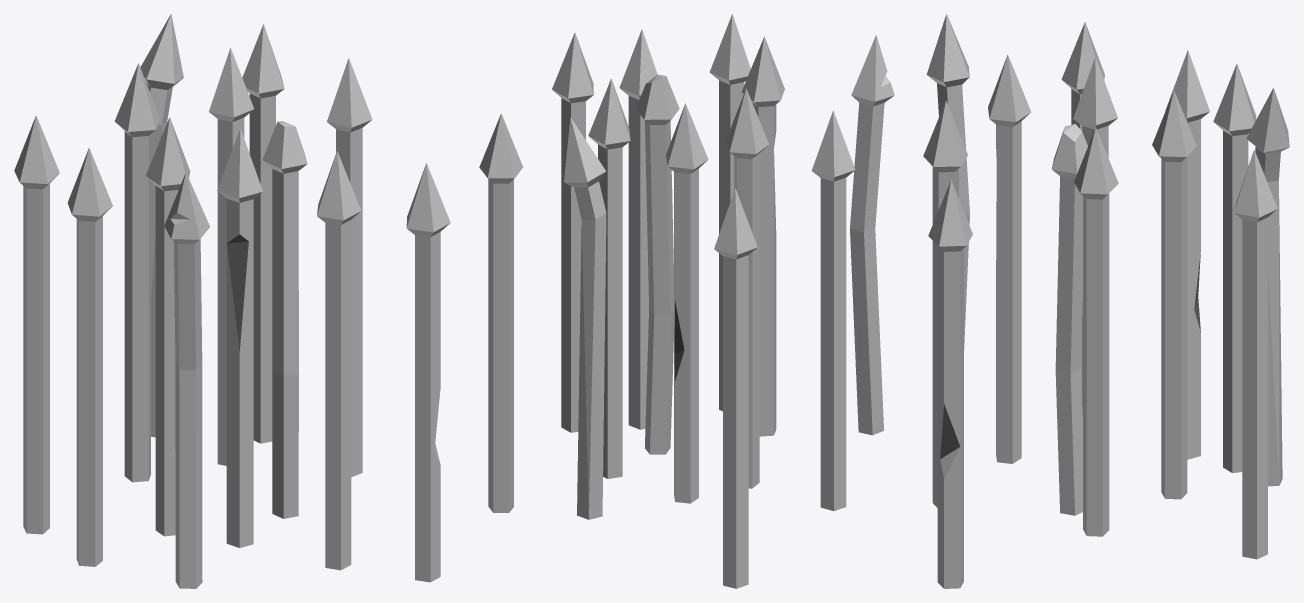
Rendered from Obstacle_GroundSpike_Spikes.fbx.
3 renders of one model, left to right at view 1: azimuth 30°, elevation 25°; view 2: azimuth 150°, elevation 25°; view 3: azimuth 270°, elevation 25°, orthographic. The views are drawn at different scales.
Visible parts, largest first — view 1: Obstacle_GroundSpike_Spikes; view 2: Obstacle_GroundSpike_Spikes; view 3: Obstacle_GroundSpike_Spikes.
Boxes of the visible parts, bbox=[...] form: Obstacle_GroundSpike_Spikes: bbox=[14, 14, 450, 588]; Obstacle_GroundSpike_Spikes: bbox=[479, 14, 894, 588]; Obstacle_GroundSpike_Spikes: bbox=[923, 14, 1289, 588].
Size of the model in its own units: 304 by 440 by 322.
